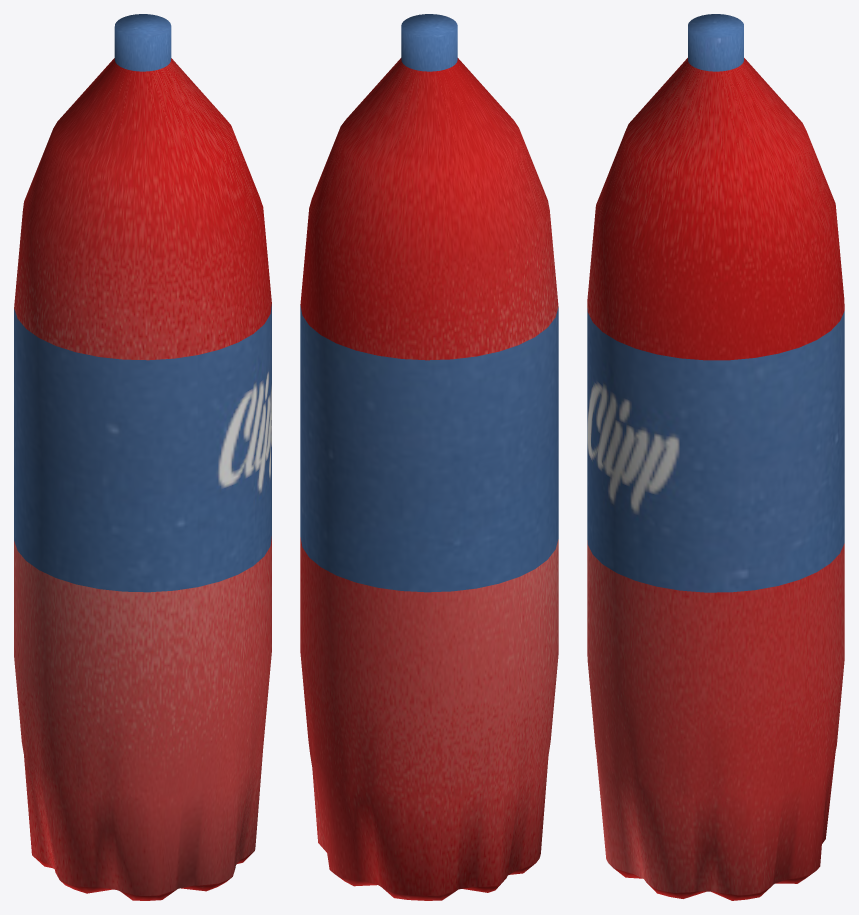
Rendered from clipp.fbx.
3 renders of one model, left to right at view 1: azimuth 30°, elevation 25°; view 2: azimuth 150°, elevation 25°; view 3: azimuth 270°, elevation 25°, orthographic.
Parts seen in each view (by area): view 1: Clipp; view 2: Clipp; view 3: Clipp.
Boxes of the visible parts, <box> form: Clipp: <box>14,14,271,900</box>; Clipp: <box>300,14,558,900</box>; Clipp: <box>587,14,844,900</box>.
Bounding box in the file's own units: 25.53 × 25.53 × 91.18.
Materials: 1 (1 with a texture image).
